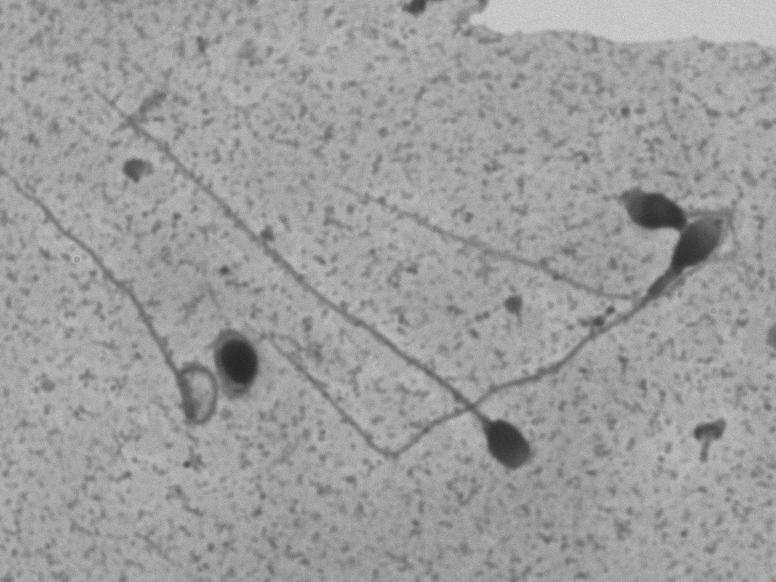Abnormal: (209, 310, 272, 421)
Normal: (71, 74, 547, 477)
